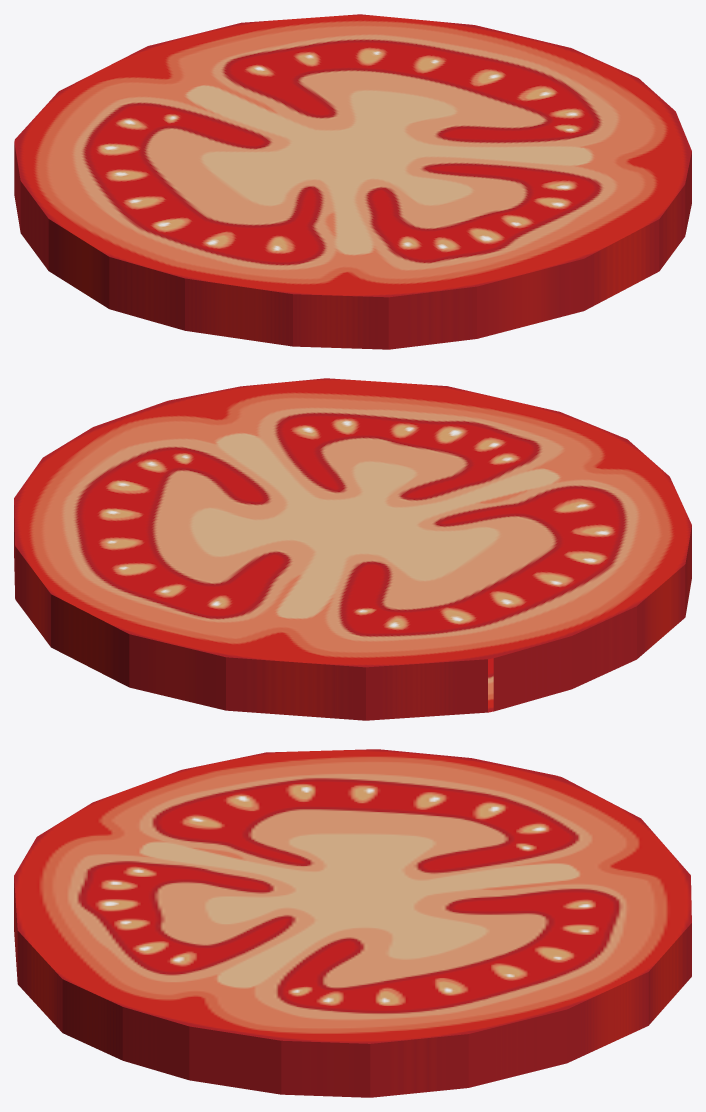
File: tomato.fbx
The picture shows the model from 3 angles, top to bottom: view 1: azimuth 30°, elevation 25°; view 2: azimuth 150°, elevation 25°; view 3: azimuth 270°, elevation 25°; orthographic projection. The views are drawn at different scales.
Visible parts, largest first — view 1: Tomato; view 2: Tomato; view 3: Tomato.
Part boxes in pixels (<box>): Tomato: <box>14,14,691,349</box>; Tomato: <box>14,378,691,720</box>; Tomato: <box>14,749,691,1097</box>.
Bounding box in the file's own units: 5.44 × 0.4643 × 5.29.
